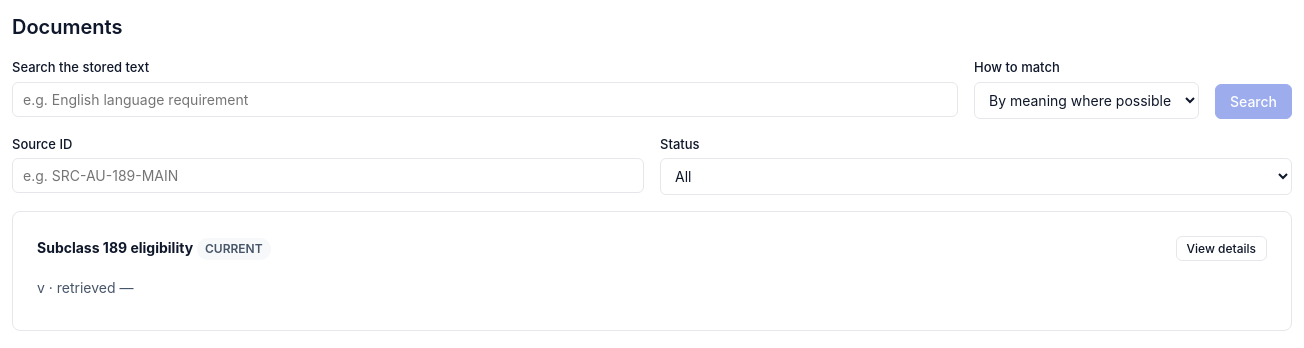
Test case: DocumentsPage › explains a refused meaning-only search instead of offering a pointless retry
Select "By meaning only" in the dropdown labelled "How to match" at [1086, 100], box [974,82,1199,118]
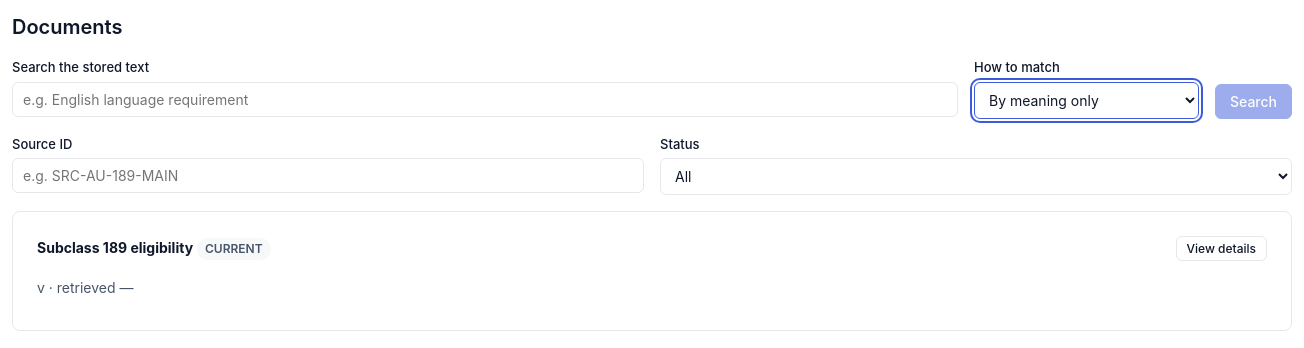
Type "english" into the field labelled "Search the stored text" at [485, 99], box [12,82,958,116]
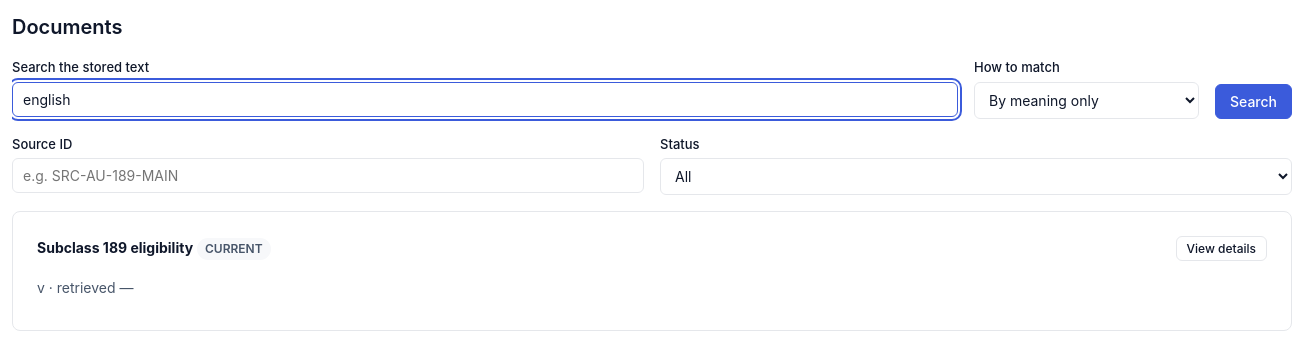
Click the button "Search" at [1254, 101], box [1215,84,1292,118]
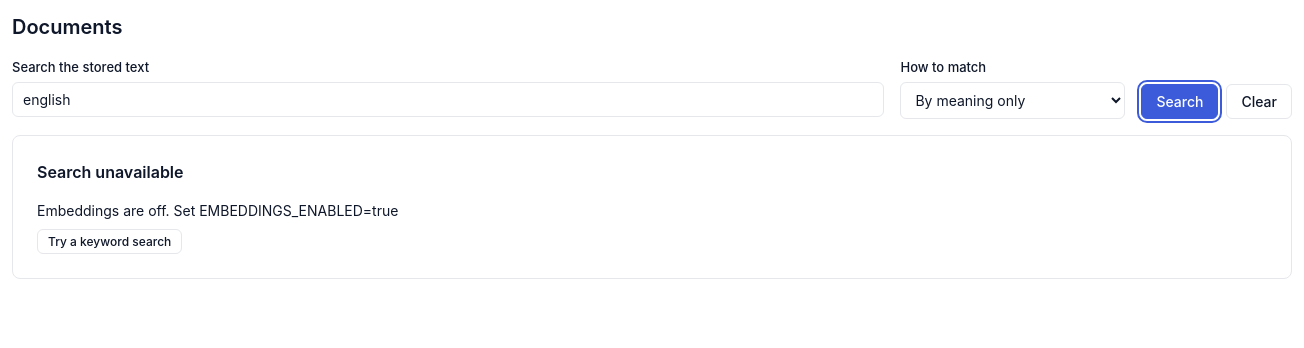
Check: the heading "Search unavailable" is shown, box [37,162,184,182]
Check: the text "Embeddings are off. Set EMBEDDINGS_ENABLED=true" is shown, box [37,202,398,218]
Check: the button "Try a keyword search" is shown, box [37,228,182,254]
